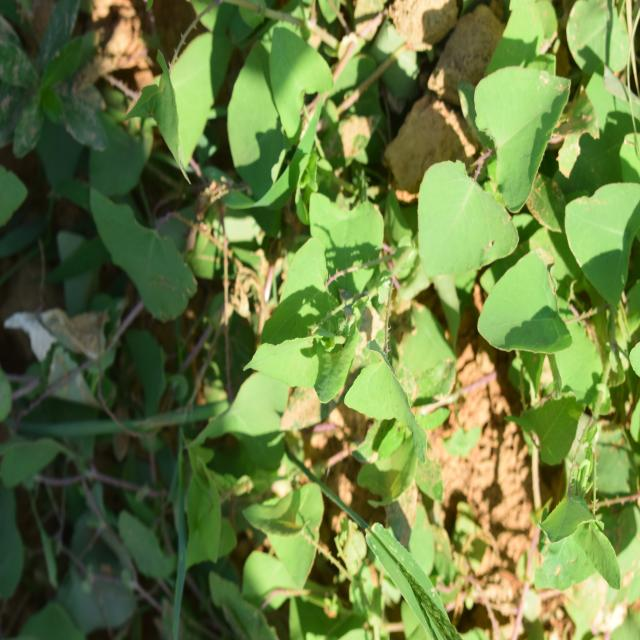Asiatic_Smartweed: (246, 186, 453, 485), (437, 72, 636, 374), (141, 7, 321, 204)
